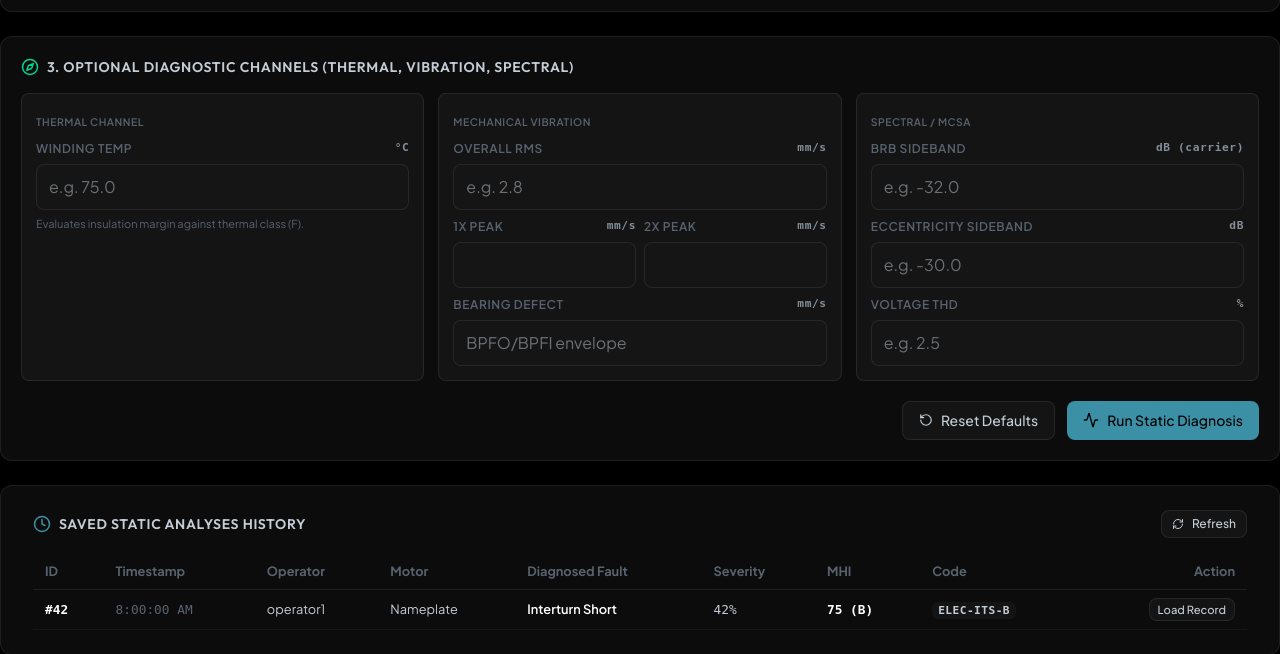
Test: StaticDiagnosisPanel › loads historical record into form and results upon clicking Load Record
(page scrolled)
Check: the text "#42" is shown, box [33, 590, 104, 629]
Click the button "Load Record" at (1192, 610), box [1149, 598, 1235, 621]
(page scrolled)
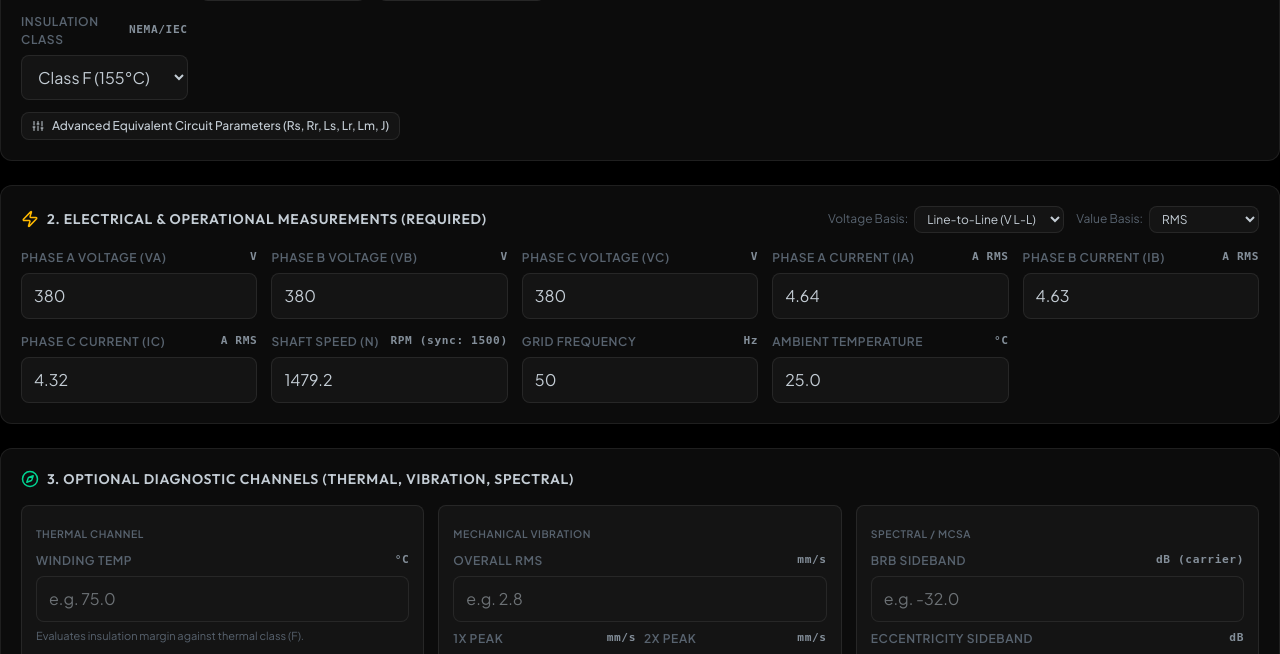
Check: the number field named "Phase A Current" holds "4.64", box [772, 273, 1009, 319]
